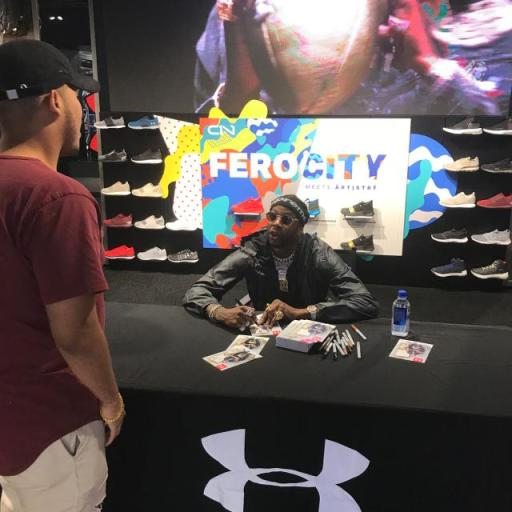Under Armour: (196, 423, 372, 511)
